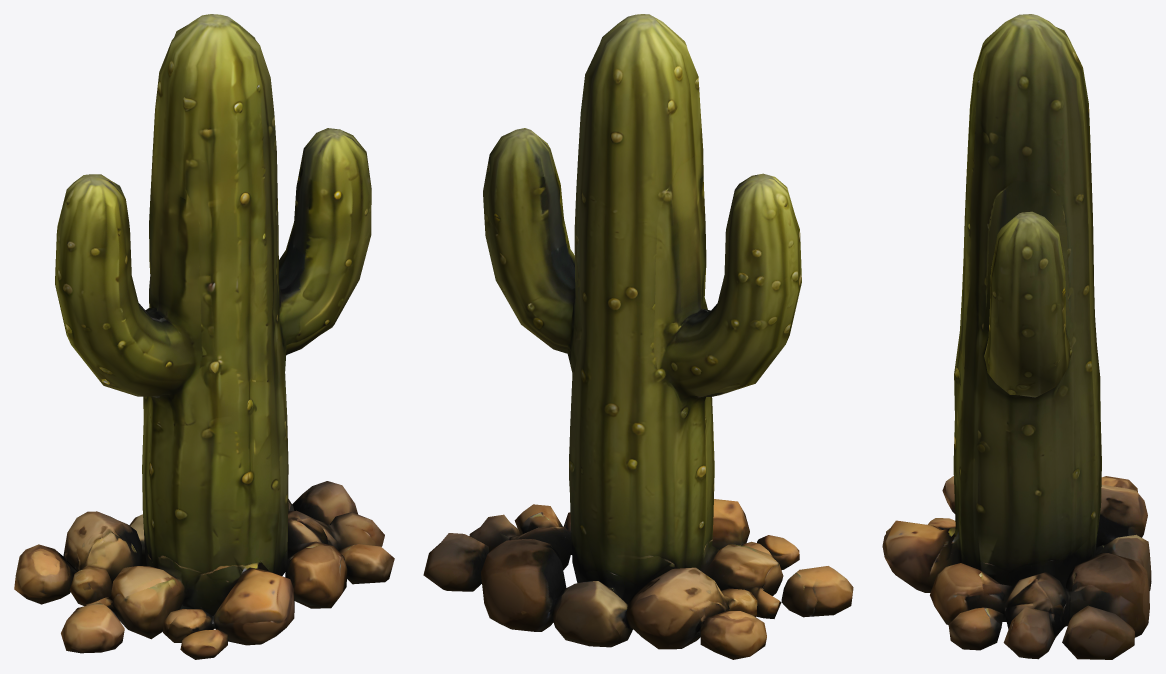
Rendered from cactus_verde.fbx.
3 views of the same model, side by side, from view 1: azimuth 30°, elevation 25°; view 2: azimuth 150°, elevation 25°; view 3: azimuth 270°, elevation 25° (orthographic).
Parts seen in each view (by area): view 1: tripo_node_3601dfe6; view 2: tripo_node_3601dfe6; view 3: tripo_node_3601dfe6.
Boxes of the visible parts, x1,y1,x2,y2 form: tripo_node_3601dfe6: (14,14,394,659); tripo_node_3601dfe6: (423,14,853,659); tripo_node_3601dfe6: (882,14,1151,659).
Size of the model in its own units: 61.91 by 99.85 by 41.91.
1 material, 1 textured.
